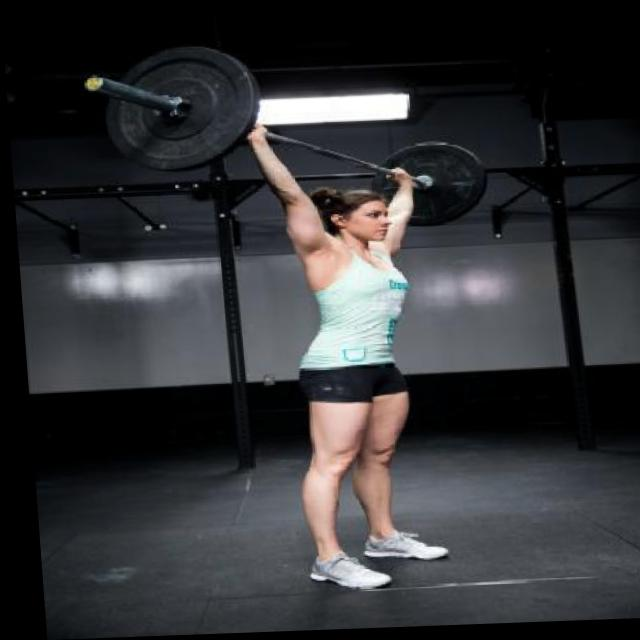barbell: (77, 42, 264, 179)
